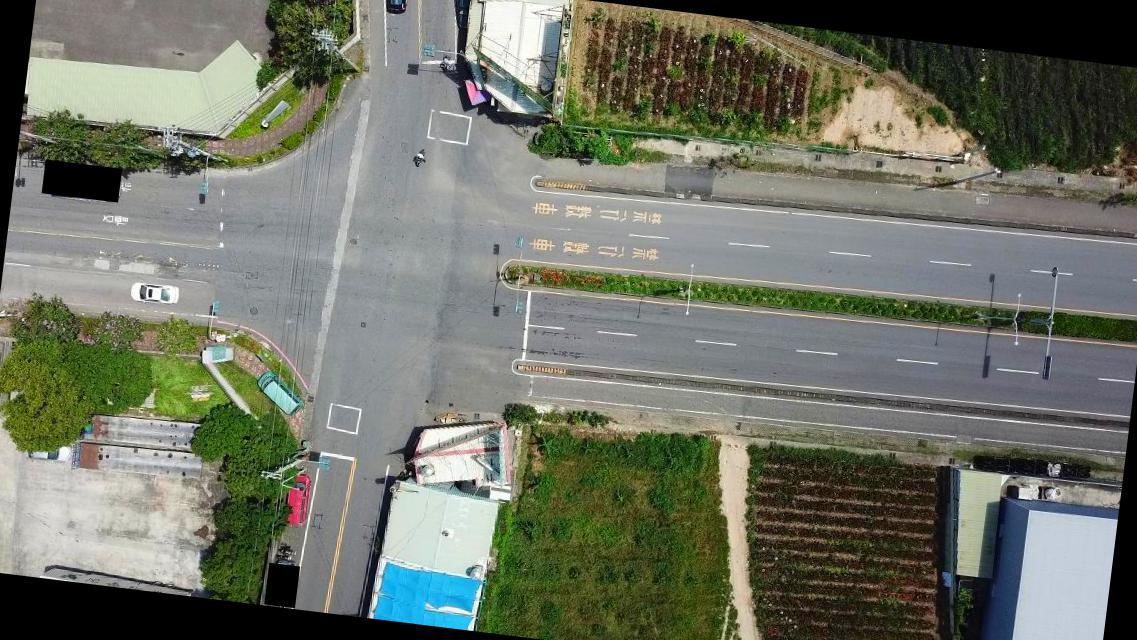vehicle: (254, 372, 304, 417), (278, 472, 312, 530), (126, 277, 178, 310), (19, 435, 72, 466), (444, 0, 475, 37), (380, 0, 411, 18)
